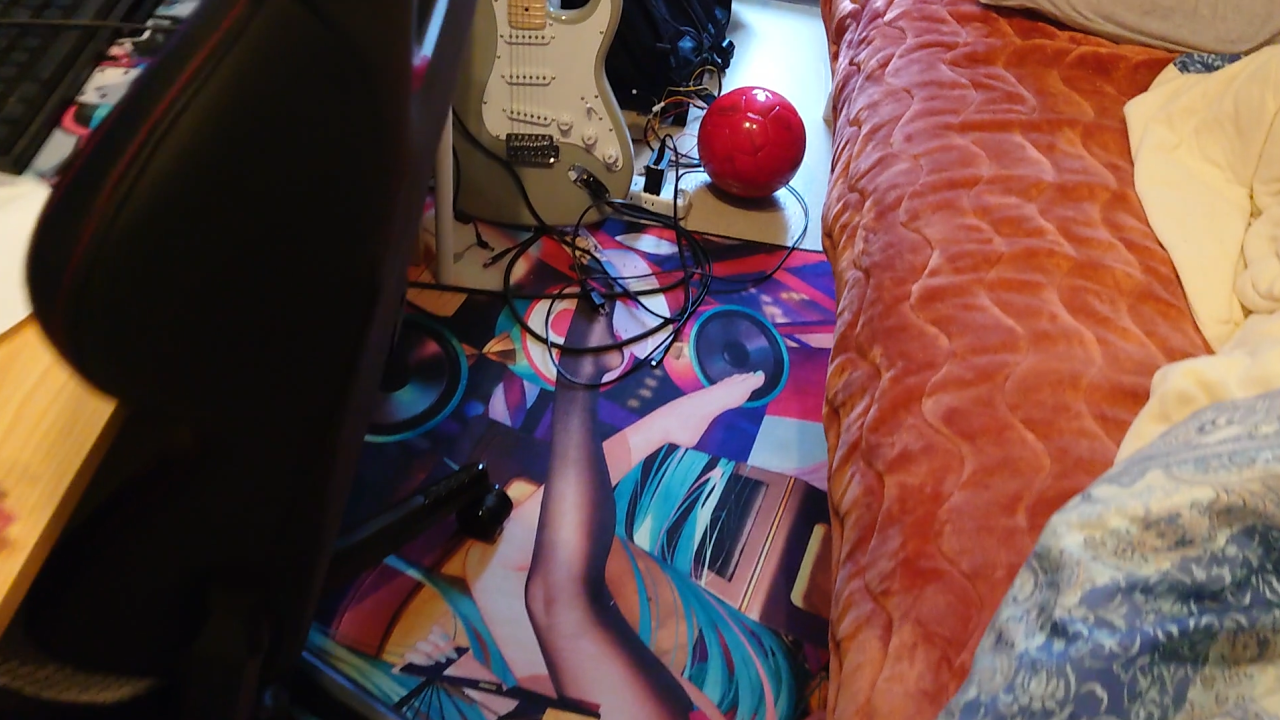red: (699, 90, 805, 202)
